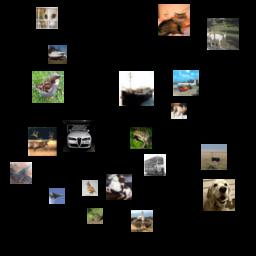airplane: (173, 70, 199, 96), (10, 162, 32, 184), (49, 188, 65, 204)
automobile: (63, 120, 95, 152)
bird: (32, 71, 64, 103), (201, 144, 227, 170), (131, 210, 153, 232), (82, 180, 98, 196)
cat: (158, 4, 190, 36), (36, 7, 58, 29)
deer: (207, 18, 239, 50), (28, 127, 57, 156)
dog: (203, 179, 235, 211), (171, 103, 187, 119)
frog: (130, 127, 152, 149), (87, 208, 103, 224)
ship: (119, 71, 154, 106), (48, 45, 67, 64)
truck: (144, 154, 166, 176)
